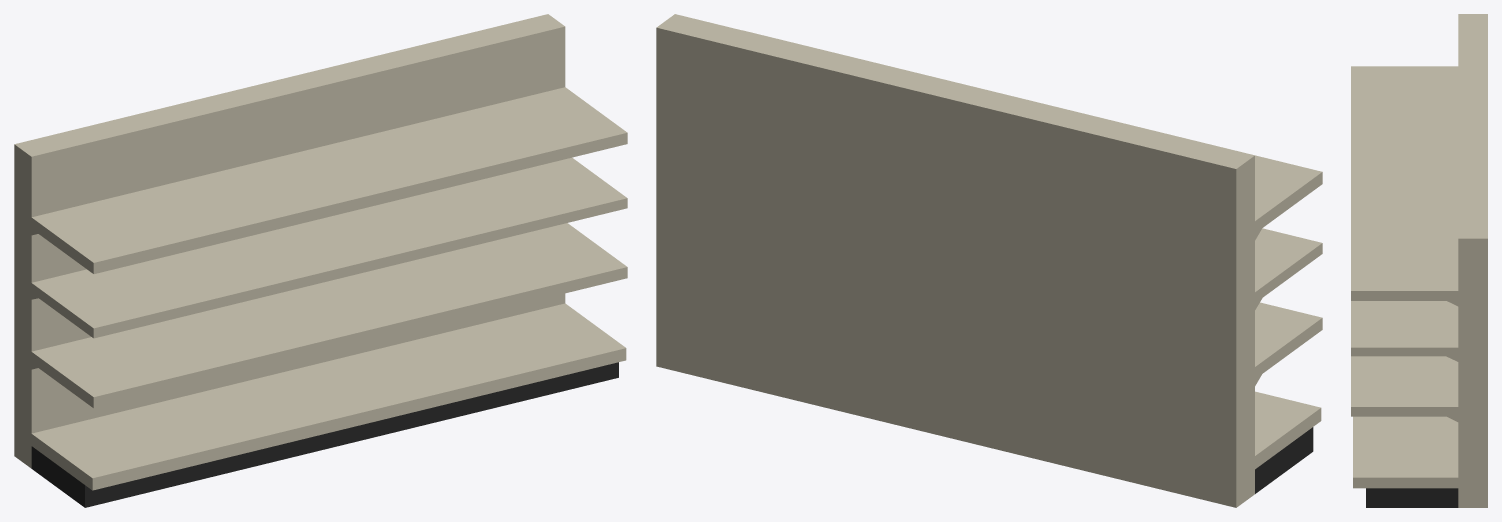
File: Shelf.fbx
3 views of the same model, side by side, from view 1: azimuth 30°, elevation 25°; view 2: azimuth 150°, elevation 25°; view 3: azimuth 270°, elevation 25° (orthographic). The views are drawn at different scales.
Parts seen in each view (by area): view 1: Cube; view 2: Cube; view 3: Cube.
Part boxes in pixels (x1,y1,x2,y2): Cube: (14, 14, 627, 507); Cube: (656, 14, 1322, 507); Cube: (1351, 14, 1487, 507).
Size of the model in its own units: 4848 by 2707 by 1249.
